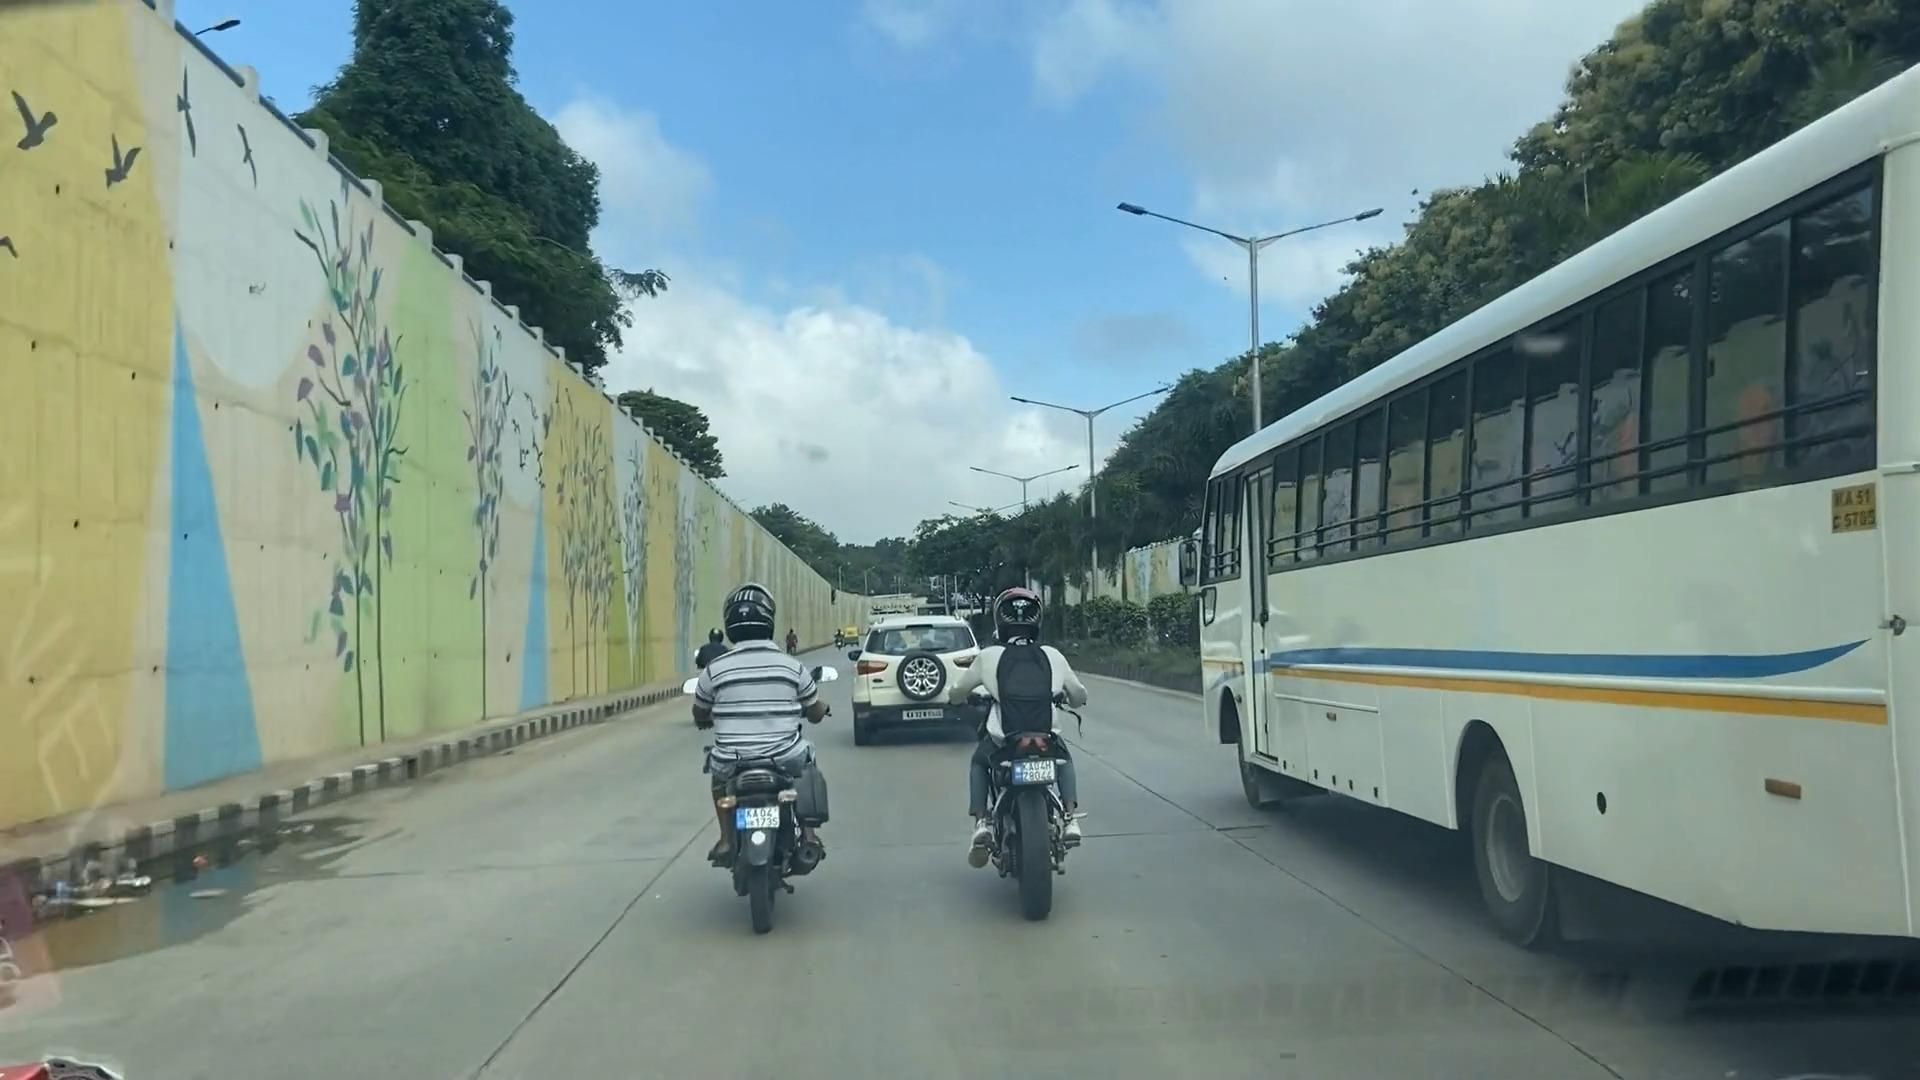HMV: (1196, 137, 1920, 909)
LMV: (709, 584, 836, 906), (959, 611, 1077, 907), (857, 622, 969, 742)
